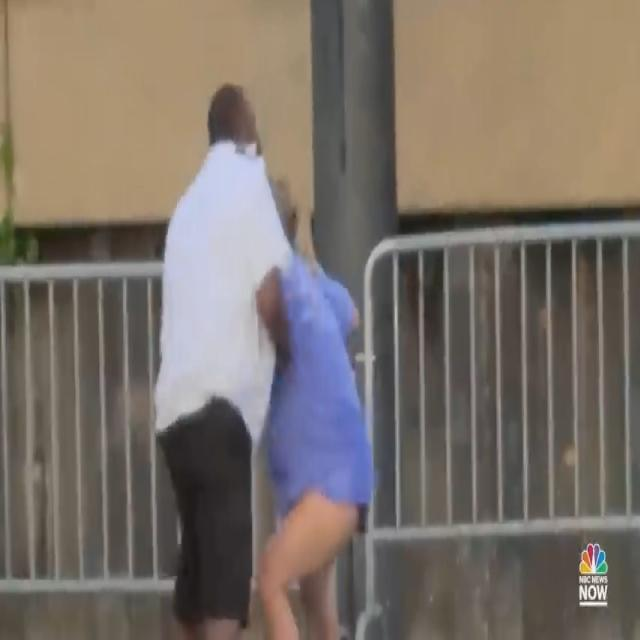fight: (150, 68, 375, 640)
